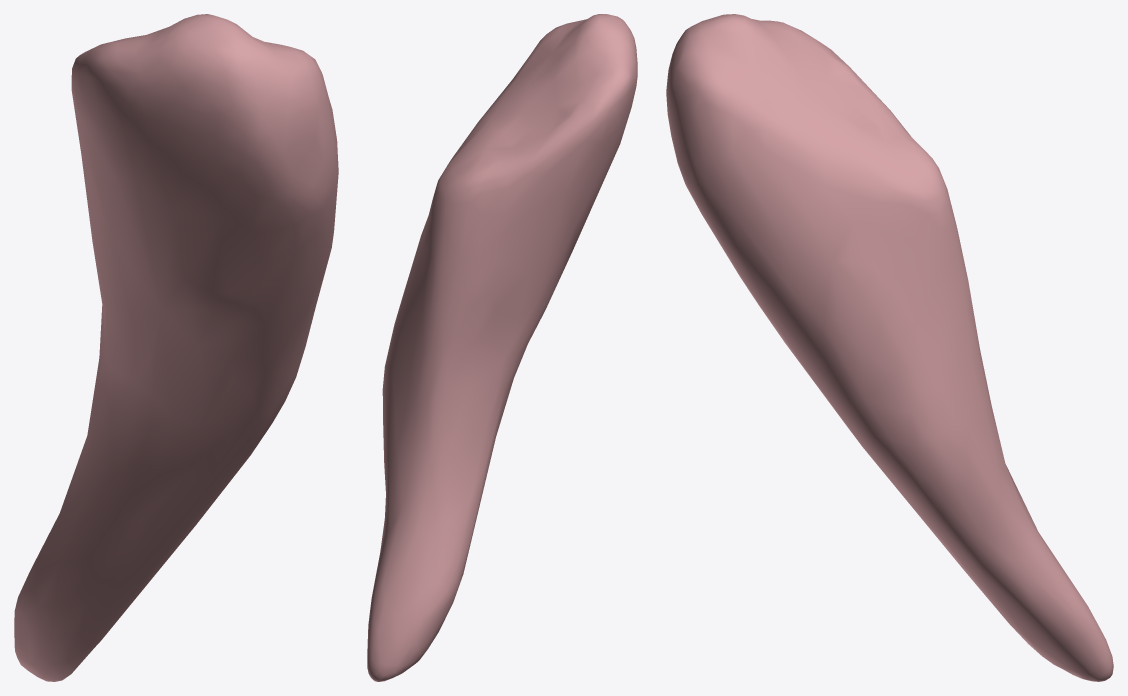
Rendered from fma55686_mm817m.glb.
The picture shows the model from 3 angles, left to right: view 1: azimuth 30°, elevation 25°; view 2: azimuth 150°, elevation 25°; view 3: azimuth 270°, elevation 25°; orthographic projection. The views are drawn at different scales.
Parts seen in each view (by area): view 1: FMA55686_MM817M; view 2: FMA55686_MM817M; view 3: FMA55686_MM817M.
Part boxes in pixels (x1,y1,x2,y2): FMA55686_MM817M: (14, 14, 338, 681); FMA55686_MM817M: (367, 14, 637, 681); FMA55686_MM817M: (666, 14, 1113, 681).
Bounding box in the file's own units: 0.00794 × 0.0236 × 0.0151.
